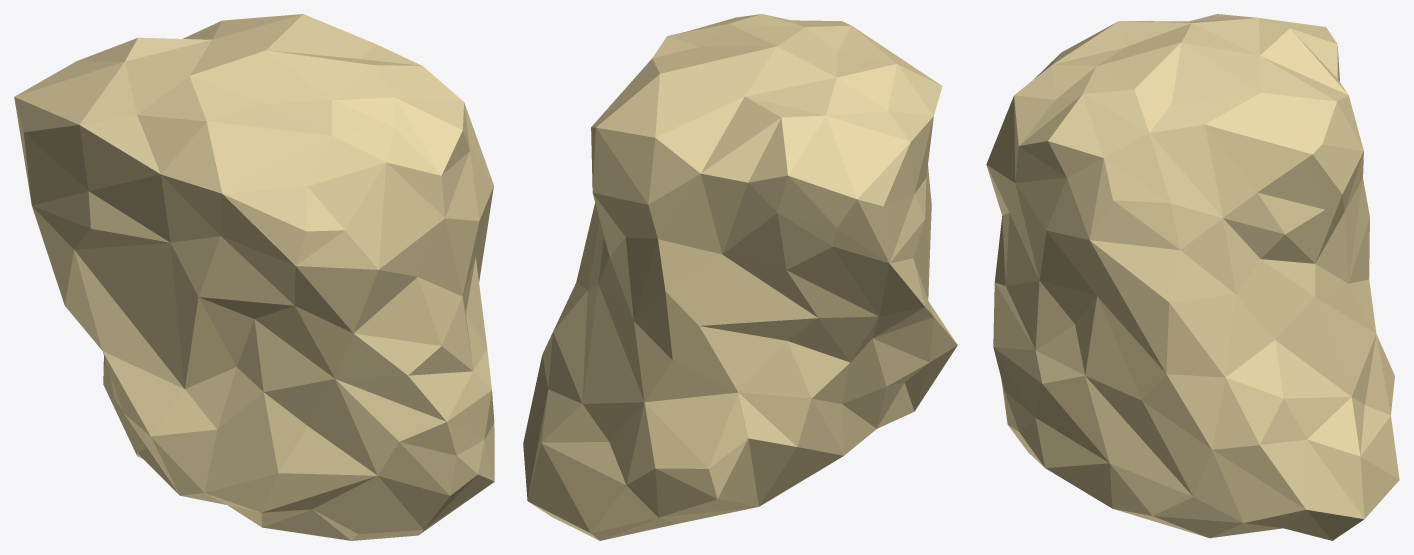
The model's file is Asteroid (73).fbx.
3 views of the same model, side by side, from view 1: azimuth 30°, elevation 25°; view 2: azimuth 150°, elevation 25°; view 3: azimuth 270°, elevation 25° (orthographic). The views are drawn at different scales.
Parts seen in each view (by area): view 1: Asteroid162; view 2: Asteroid162; view 3: Asteroid162.
Part boxes in pixels (x1,y1,x2,y2): Asteroid162: (14,14,494,540); Asteroid162: (523,14,957,540); Asteroid162: (986,14,1399,540).
Bounding box in the file's own units: 428 × 509 × 444.
